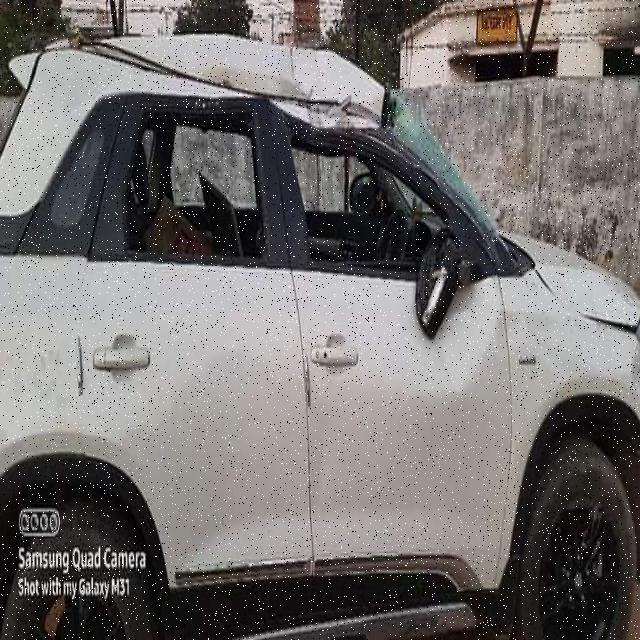Sidemirror-Damage: (402, 226, 475, 344)
doorouter-dent: (294, 270, 510, 562)
fender-dent: (502, 287, 640, 508)
pillar-dent: (248, 100, 313, 272)
roof-dent: (93, 24, 386, 132)
